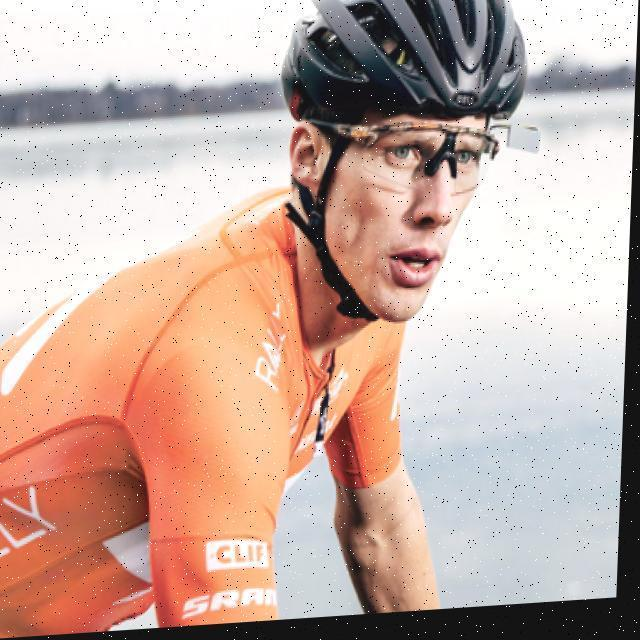Helmet: (267, 0, 536, 340)
